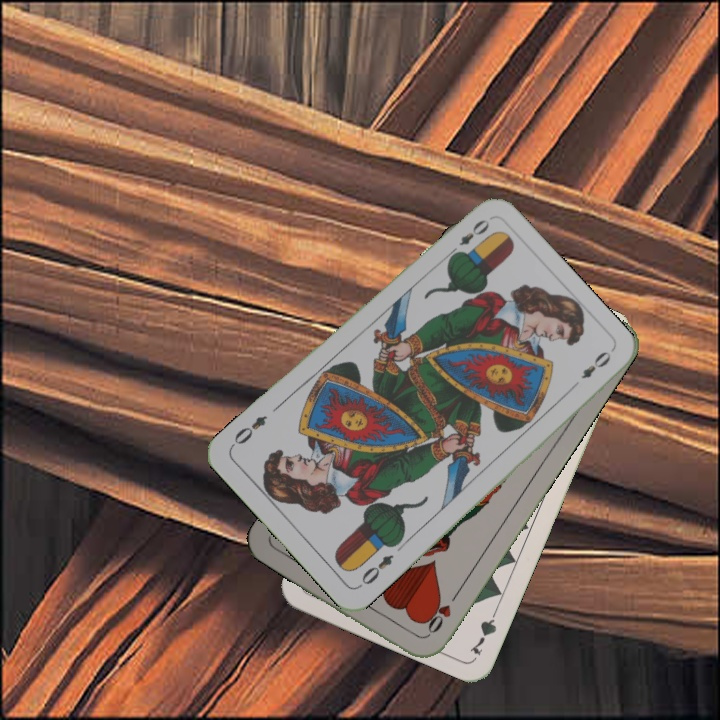EO: (444, 214, 492, 260), (354, 550, 396, 591)
G7: (465, 602, 501, 658)
HO: (419, 588, 462, 640)
